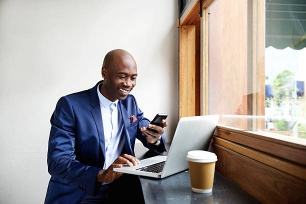male: (102, 49, 138, 103)
